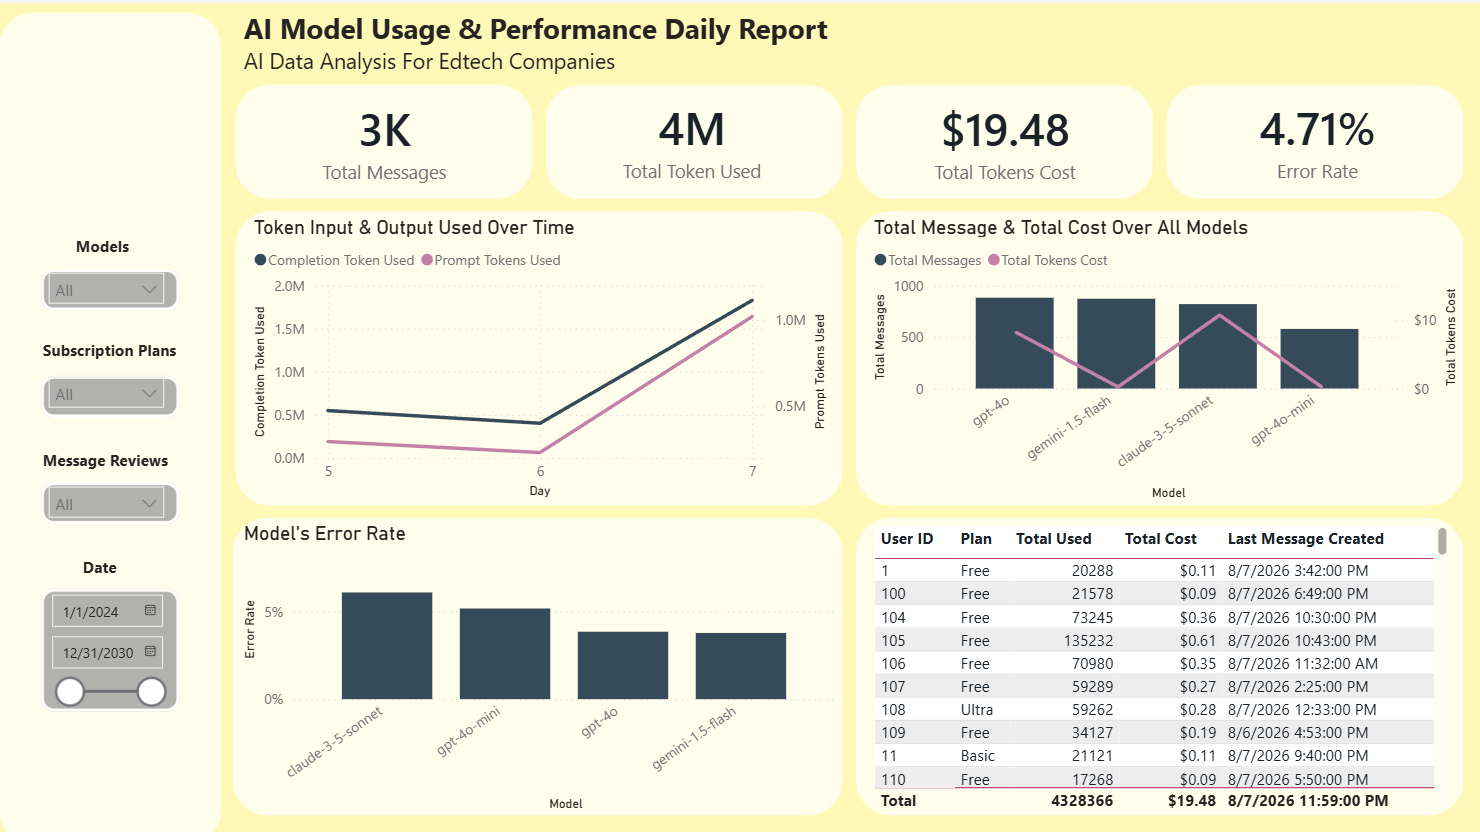

Layout of this report page (visuals, bound fields, positions):
{"tool":"powerbi","page":{"name":"Overview Page","canvas":[1280,720],"ordinal":0},"visuals":[{"type":"cardVisual","fields":{"Data":["measure_table.Total Token Used"]},"box":[481.5,61.3,235.4,113.8],"z":0},{"type":"cardVisual","fields":{"Data":["measure_table.Total Messages"]},"box":[215,61,236,114],"z":1000},{"type":"cardVisual","fields":{"Data":["measure_table.Total Tokens Cost"]},"box":[751,61,237,114],"z":2000},{"type":"cardVisual","fields":{"Data":["measure_table.Error Rate"]},"box":[1021.3,61.3,236.4,113.8],"z":3000},{"type":"lineChart","title":"Token Input & Output Used Over Time","fields":{"Category":["dim_date.year","dim_date.month_name","dim_date.day_of_month"],"Y":["measure_table.Completion Token Used"],"Y2":["measure_table.Prompt Tokens Used"]},"box":[215,182.9,504.8,249],"z":4000},{"type":"columnChart","title":"Model''s Error Rate","fields":{"Category":["dim_models.model_id"],"Y":["measure_table.Error Rate"]},"box":[207,448,523,255],"z":5000},{"type":"tableEx","fields":{"Values":["dim_users.user_sk","dim_users.plan_type","measure_table.Total Token Used","measure_table.Total Tokens Cost","fact_messages.message_created_at"]},"box":[751,448,506,255],"z":6000},{"type":"lineClusteredColumnComboChart","title":"Total Message & Total Cost Over All Models","fields":{"Category":["dim_models.model_id"],"Y2":["measure_table.Total Tokens Cost"],"Y":["measure_table.Total Messages"]},"box":[751,183,514,251],"z":7000},{"type":"textbox","box":[207,0,635,69],"z":8000},{"type":"slicer","fields":{"Values":["dim_date.full_date"]},"box":[33,501,120,118],"z":9000},{"type":"slicer","fields":{"Values":["dim_models.model_id"]},"box":[33,223,120,47],"z":10000},{"type":"slicer","fields":{"Values":["fact_messages.last_rating"]},"box":[33,408,120,47],"z":11000},{"type":"slicer","fields":{"Values":["dim_users.plan_type"]},"box":[33,313,120,39],"z":12000},{"type":"textbox","box":[61,196,63,27],"z":13000},{"type":"textbox","box":[33,286,132,27],"z":14000},{"type":"textbox","box":[33,381,132,27],"z":15000},{"type":"textbox","box":[67,474,63,27],"z":16000}]}

Visuals, with their boxes in screenshot pixels (x1, y1, x2, y2), scaled from the page's 1280x720 canvas onto the 1480x832 screenshot:
cardVisual - measure_table.Total Token Used: (left=557, top=71, right=829, bottom=202)
cardVisual - measure_table.Total Messages: (left=249, top=70, right=521, bottom=202)
cardVisual - measure_table.Total Tokens Cost: (left=868, top=70, right=1142, bottom=202)
cardVisual - measure_table.Error Rate: (left=1181, top=71, right=1454, bottom=202)
"Token Input & Output Used Over Time" lineChart: (left=249, top=211, right=832, bottom=499)
"Model''s Error Rate" columnChart: (left=239, top=518, right=844, bottom=812)
tableEx - dim_users.user_sk x dim_users.plan_type: (left=868, top=518, right=1453, bottom=812)
"Total Message & Total Cost Over All Models" lineClusteredColumnComboChart: (left=868, top=211, right=1463, bottom=502)
textbox: (left=239, top=0, right=974, bottom=80)
slicer - dim_date.full_date: (left=38, top=579, right=177, bottom=715)
slicer - dim_models.model_id: (left=38, top=258, right=177, bottom=312)
slicer - fact_messages.last_rating: (left=38, top=471, right=177, bottom=526)
slicer - dim_users.plan_type: (left=38, top=362, right=177, bottom=407)
textbox: (left=71, top=226, right=143, bottom=258)
textbox: (left=38, top=330, right=191, bottom=362)
textbox: (left=38, top=440, right=191, bottom=471)
textbox: (left=77, top=548, right=150, bottom=579)
